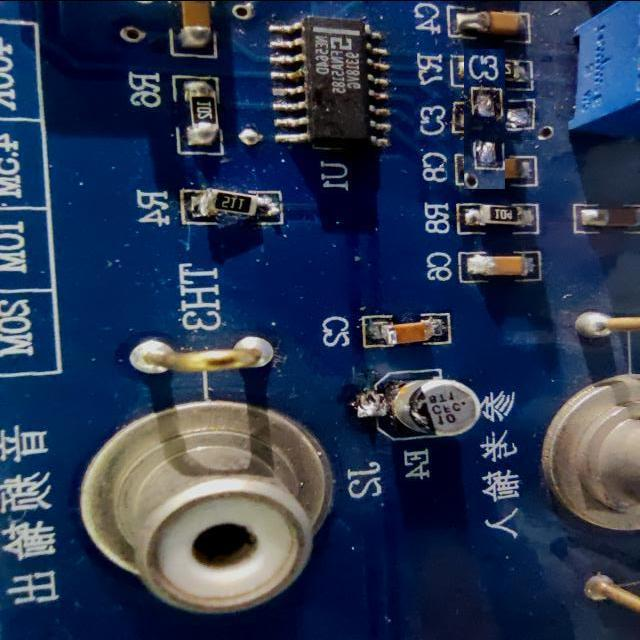miss_welding: (438, 73, 530, 165)
